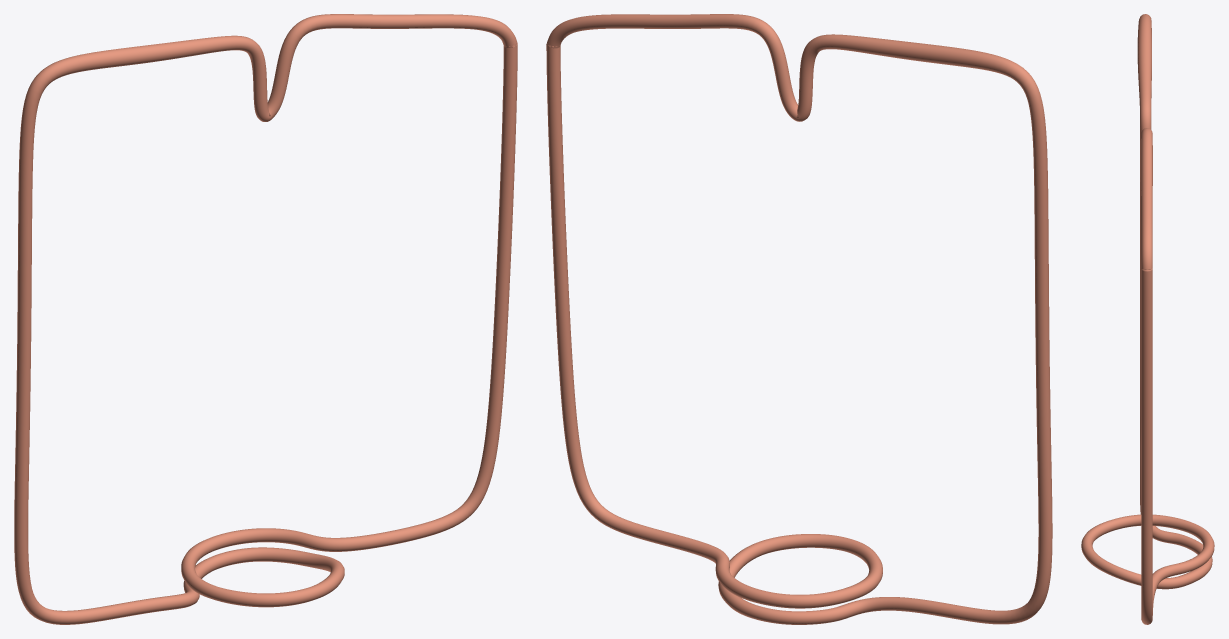
The model's file is wire.fbx.
3 renders of one model, left to right at view 1: azimuth 30°, elevation 25°; view 2: azimuth 150°, elevation 25°; view 3: azimuth 270°, elevation 25°, orthographic. The views are drawn at different scales.
Parts seen in each view (by area): view 1: NurbsPath; view 2: NurbsPath; view 3: NurbsPath.
Part boxes in pixels (x1,y1,x2,y2): NurbsPath: (14, 14, 517, 624); NurbsPath: (546, 14, 1052, 624); NurbsPath: (1081, 14, 1214, 624).
Size of the model in its own units: 165 by 182 by 46.84.
